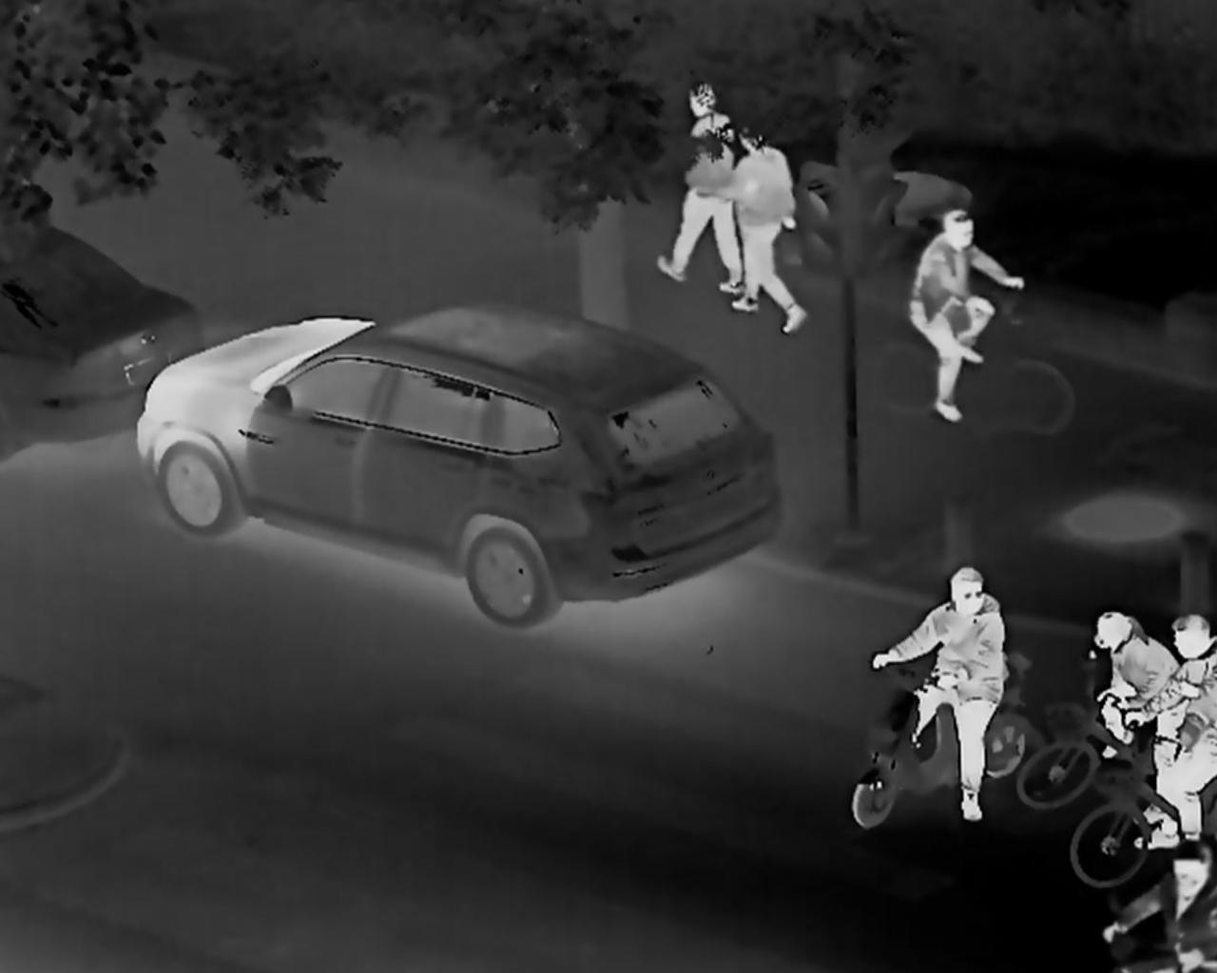person: (871, 563, 1011, 816), (903, 199, 1027, 428), (703, 120, 811, 330), (1120, 613, 1217, 836), (1086, 604, 1185, 821), (655, 76, 742, 293), (1100, 840, 1217, 973)
